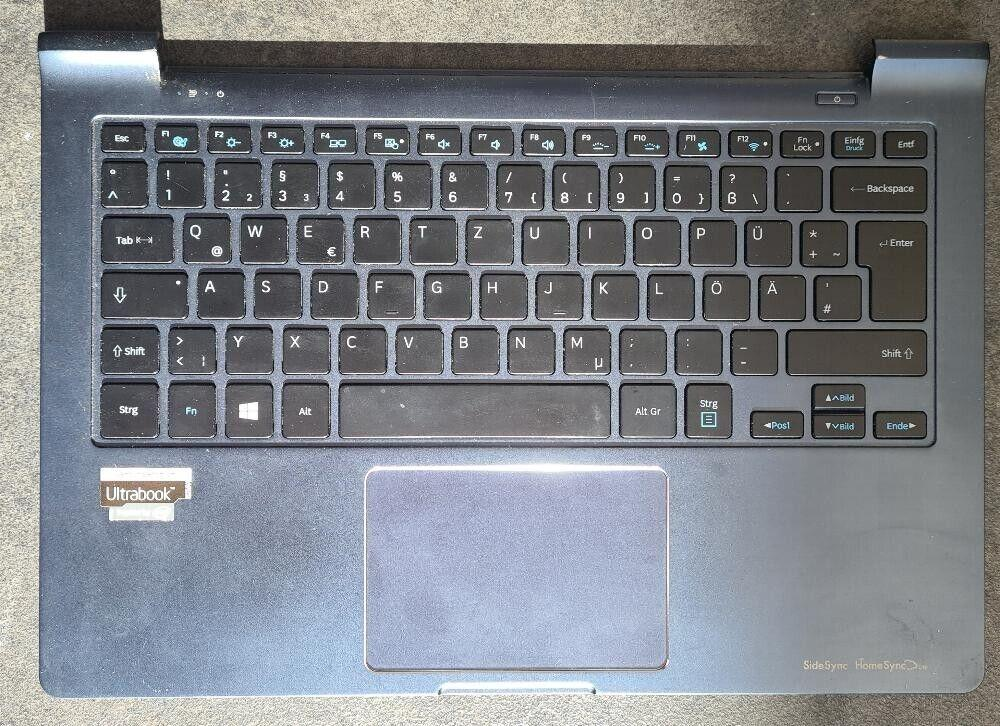0: (660, 160, 709, 209)
1: (153, 157, 203, 206)
2: (209, 157, 259, 206)
3: (266, 157, 317, 207)
4: (324, 157, 373, 207)
5: (380, 159, 430, 208)
6: (437, 159, 486, 208)
7: (493, 159, 542, 209)
8: (548, 159, 597, 208)
9: (604, 160, 652, 209)
a: (193, 267, 243, 316)
accent: (771, 161, 820, 209)
ae: (755, 271, 804, 318)
alt-left: (278, 381, 329, 437)
altgr-right: (615, 379, 675, 437)
b: (447, 323, 498, 373)
c: (335, 322, 385, 373)
caret: (96, 157, 145, 205)
comma: (615, 323, 664, 373)
d: (306, 267, 356, 317)
del: (827, 161, 927, 210)
e: (292, 213, 343, 263)
enter: (854, 216, 926, 320)
f: (363, 268, 413, 317)
g: (420, 269, 468, 317)
h: (475, 269, 525, 317)
hash: (810, 270, 859, 319)
i: (574, 214, 623, 263)
j: (532, 269, 580, 317)
k: (588, 270, 637, 318)
keyboard: (85, 111, 945, 452)
l: (643, 269, 692, 318)
less: (164, 322, 215, 373)
m: (559, 324, 609, 374)
minus: (726, 326, 776, 373)
n: (504, 324, 553, 373)
o: (629, 214, 679, 264)
oe: (699, 270, 748, 318)
p: (685, 215, 734, 264)
plus: (796, 216, 846, 265)
point: (670, 324, 720, 372)
q: (178, 212, 229, 262)
r: (349, 213, 399, 262)
s: (250, 267, 300, 317)
shift-left: (95, 322, 158, 373)
shift-lock: (96, 266, 187, 316)
shift-right: (782, 325, 927, 374)
space: (335, 377, 611, 436)
ss: (715, 161, 764, 209)
strg-left: (93, 378, 158, 437)
strg-right: (681, 380, 732, 437)
t: (406, 212, 454, 262)
tab: (96, 210, 172, 261)
u: (518, 214, 567, 264)
ue: (741, 216, 789, 265)
v: (391, 324, 441, 372)
w: (235, 211, 285, 261)
x: (279, 323, 329, 373)
y: (222, 323, 273, 374)
z: (462, 213, 512, 264)
